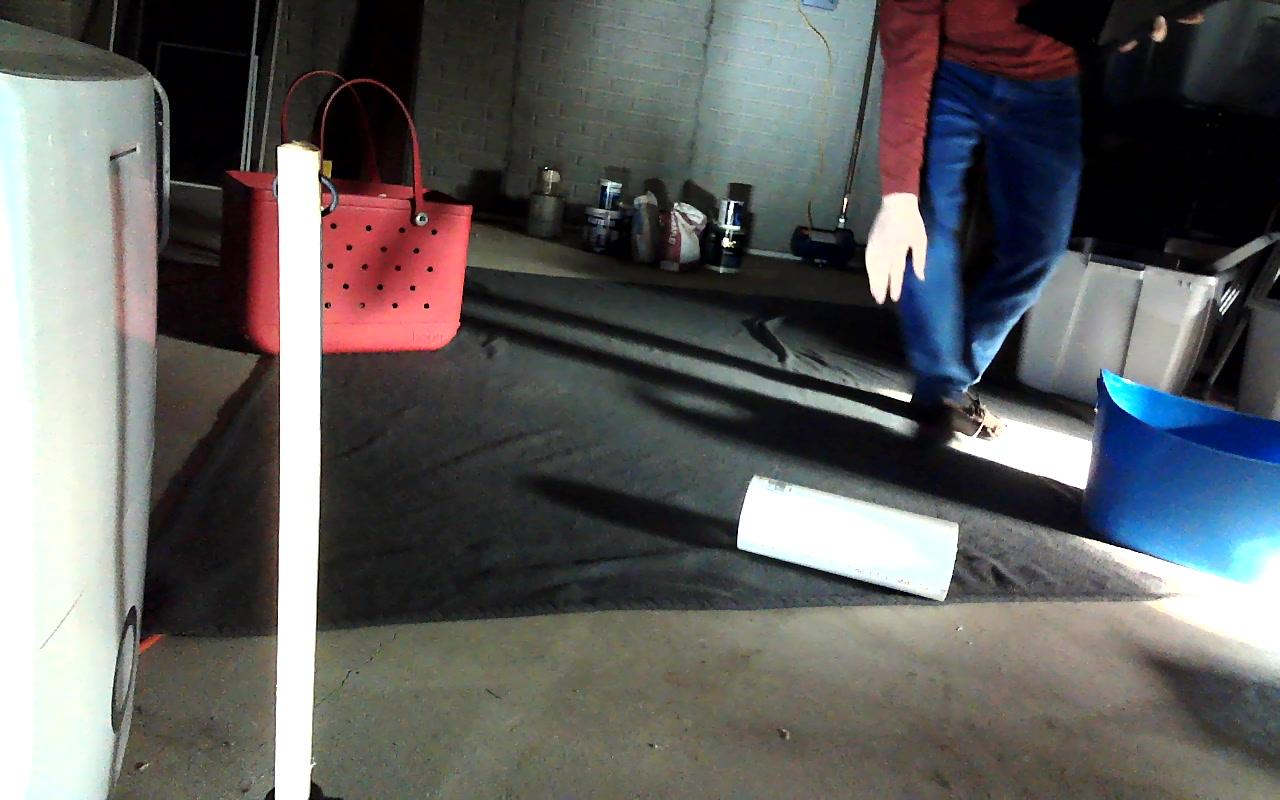coral: (737, 476, 958, 599)
